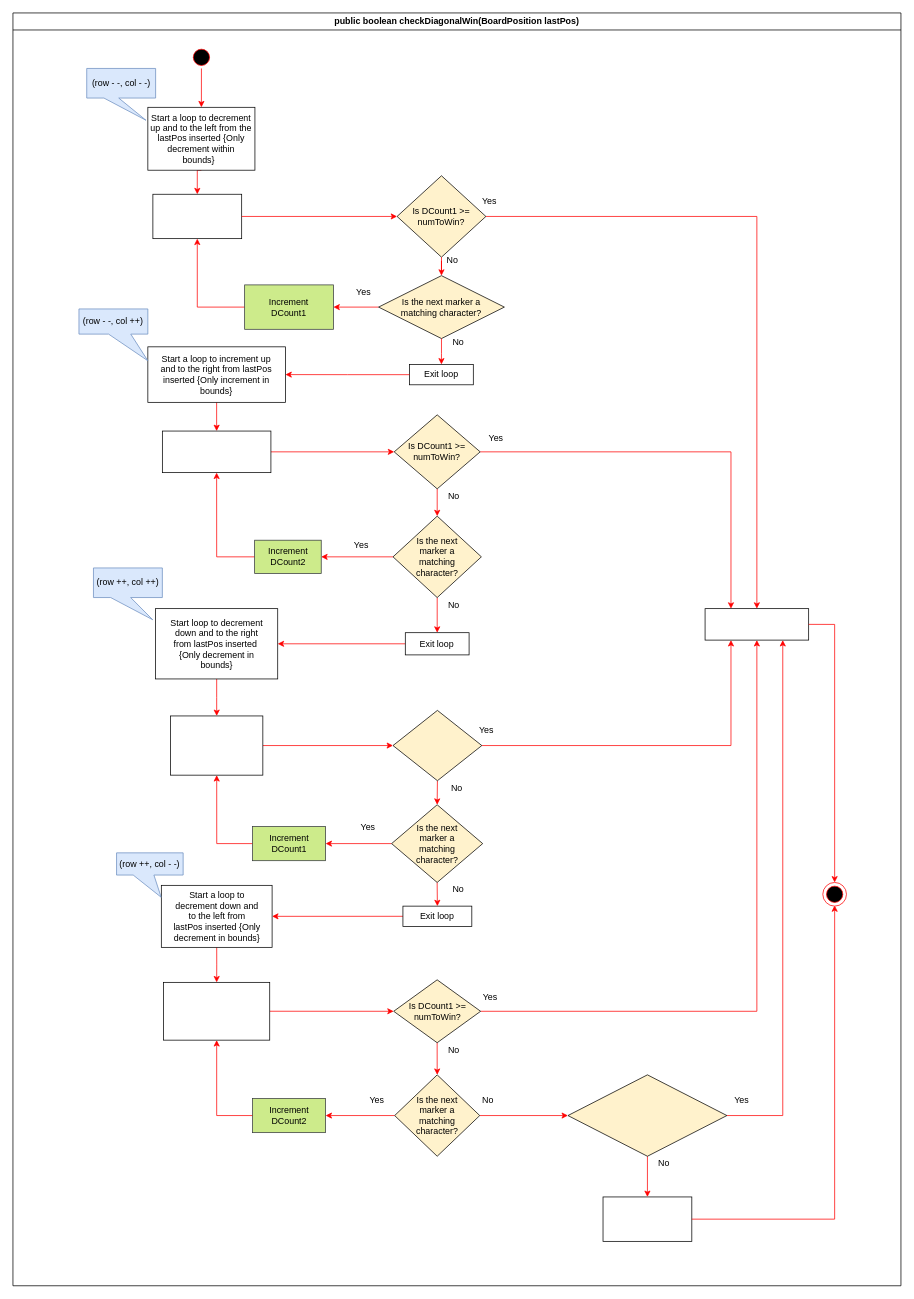
The diagram is 914 pixels wide and 1299 high, and some of its shapes have lost their labels. The centre of each missing label's shape, as x and y in pixels:
Decrement on space up and one space to the left - toward the top left.: pixel 197 216
Decrement one space down and one to the left - toward the bottom left: pixel 216 1011
Decrement one space down and one to the right - toward the bottom right: pixel 216 745
Increment one space up and one space to the right - toward the top right.: pixel 216 451
Is DCount1 == numToWin || DCount2 == numToWin ?: pixel 647 1115
Is DCount2 >= numToWin?: pixel 437 745
Return False: pixel 647 1218
Return True: pixel 756 624
